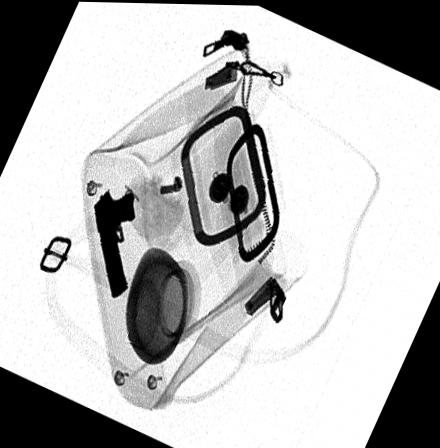Gun: (93, 187, 135, 299)
